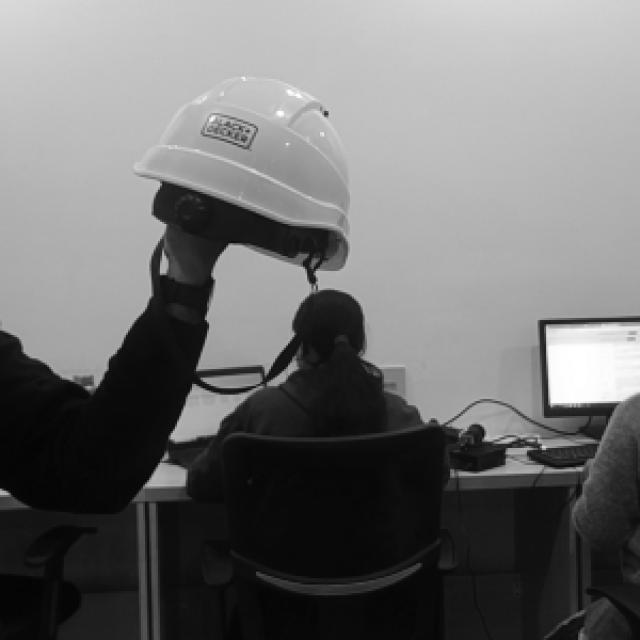safety_helmet: (133, 77, 349, 269)
